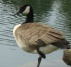goose: (10, 3, 69, 63)
